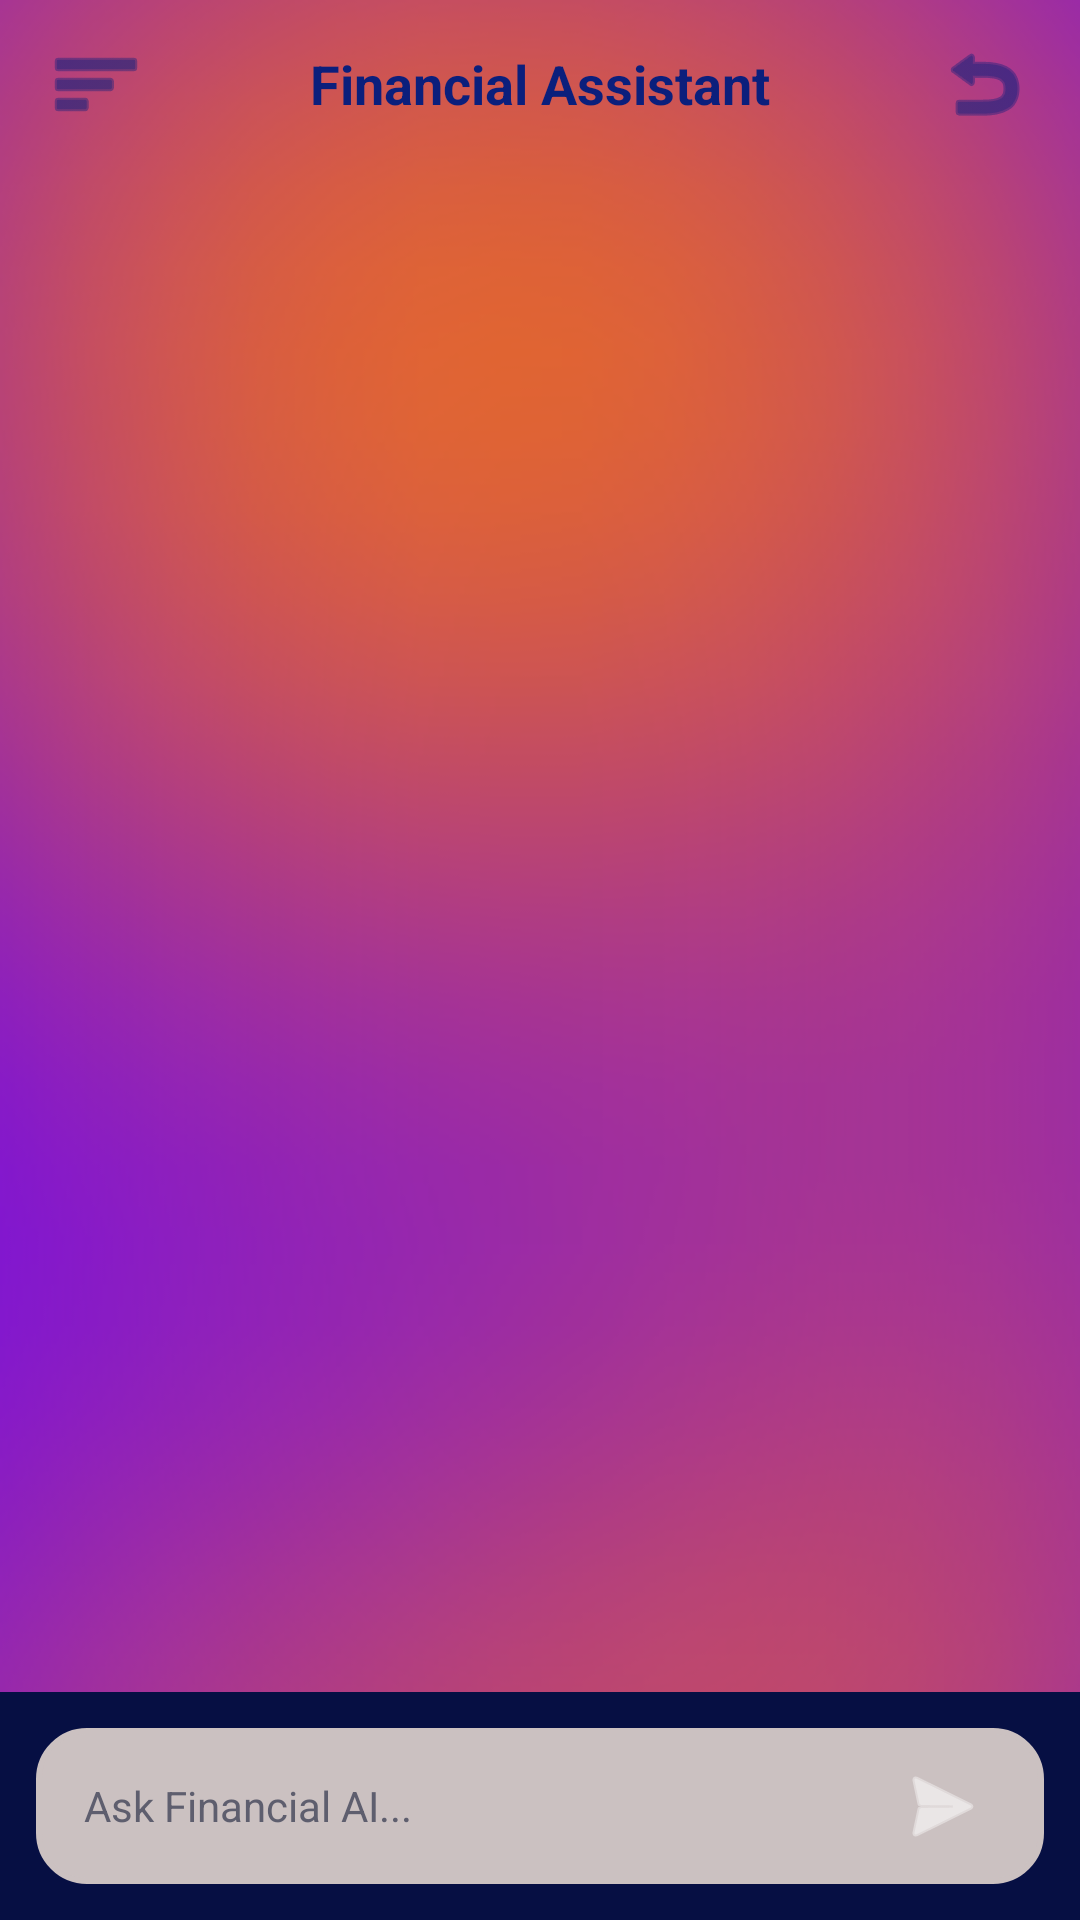

Icon click points for this 1080w x 1920h phone screenshot, format (x,y):
revert: (984,84)
send: (943,1806)
sort by size: (96,84)
